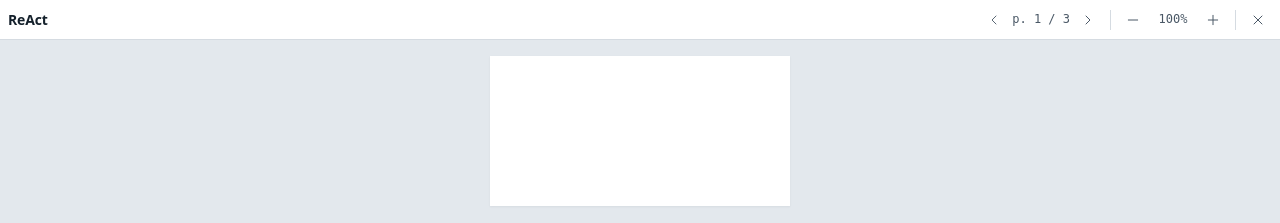
Test: DocumentViewer › pages with the buttons and PageDown/PageUp, and announces the page
Expected: the button named "Previous page" is enabled, x1=980 y1=6 x2=1008 y2=34
Click the button named "Next page" at (1088, 20), box x1=1074 y1=6 x2=1102 y2=34
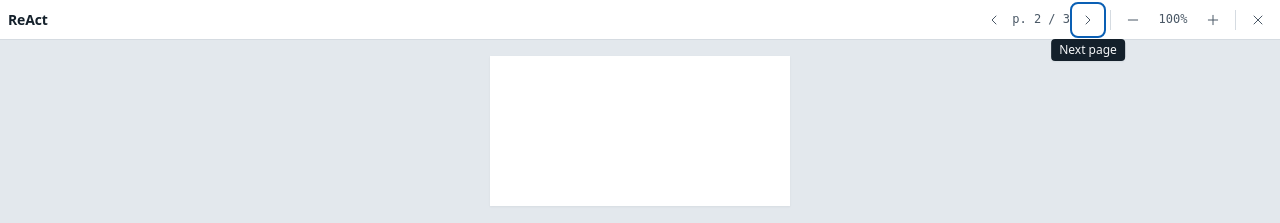
Now the text "p. 2 / 3" is shown, box x1=1012 y1=11 x2=1070 y2=28
Click the button named "Previous page" at (994, 20), box x1=980 y1=6 x2=1008 y2=34
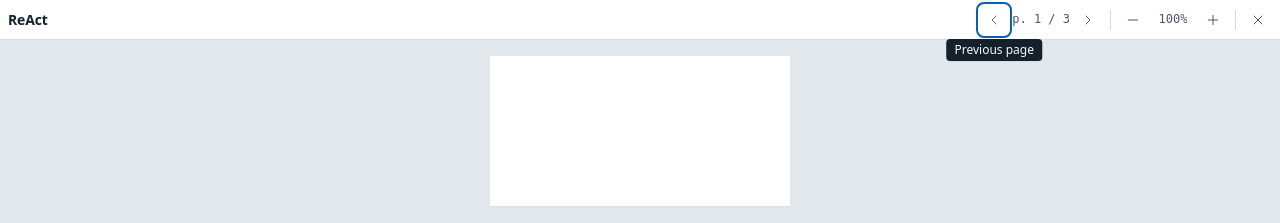
Now the text "p. 1 / 3" is shown, box x1=1012 y1=11 x2=1070 y2=28
Press PageDown in the heading "ReAct", box x1=8 y1=10 x2=48 y2=29
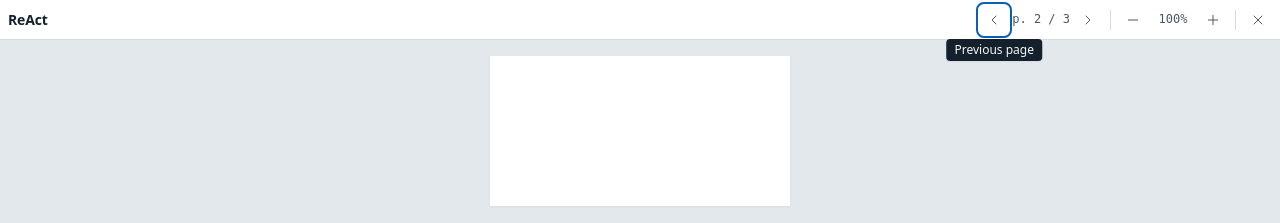
Press PageDown in the heading "ReAct", box x1=8 y1=10 x2=48 y2=29
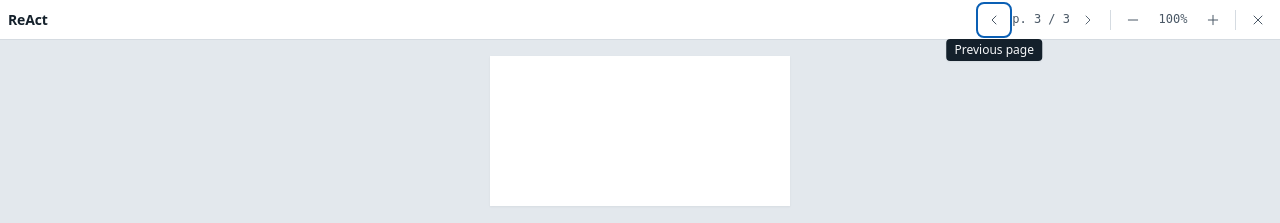
Now the text "p. 3 / 3" is shown, box x1=1012 y1=11 x2=1070 y2=28
Click the button named "Next page" at (1088, 20), box x1=1074 y1=6 x2=1102 y2=34
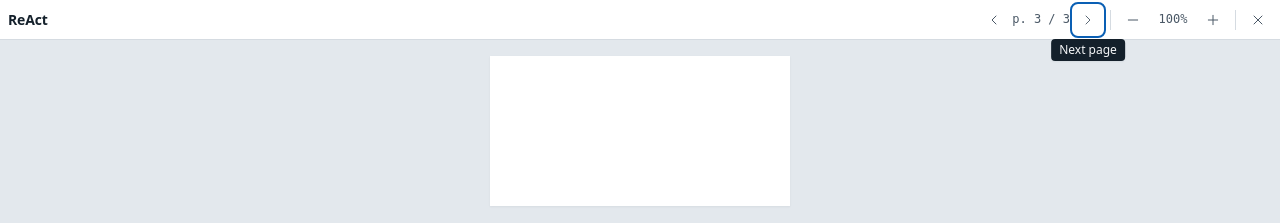
Press PageDown in the heading "ReAct", box x1=8 y1=10 x2=48 y2=29
Now the text "p. 3 / 3" is shown, box x1=1012 y1=11 x2=1070 y2=28
Press PageUp in the heading "ReAct", box x1=8 y1=10 x2=48 y2=29
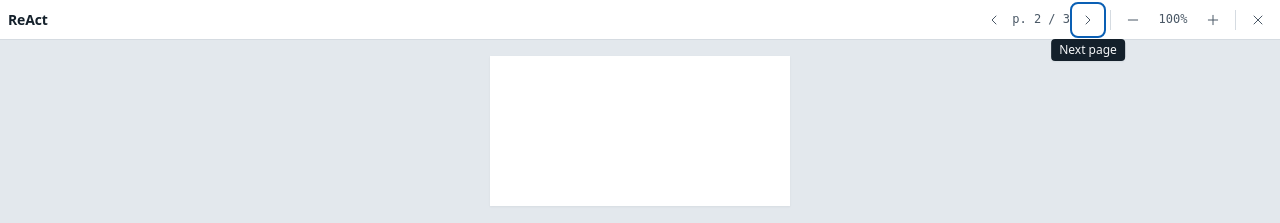
Now the text "p. 2 / 3" is shown, box x1=1012 y1=11 x2=1070 y2=28
